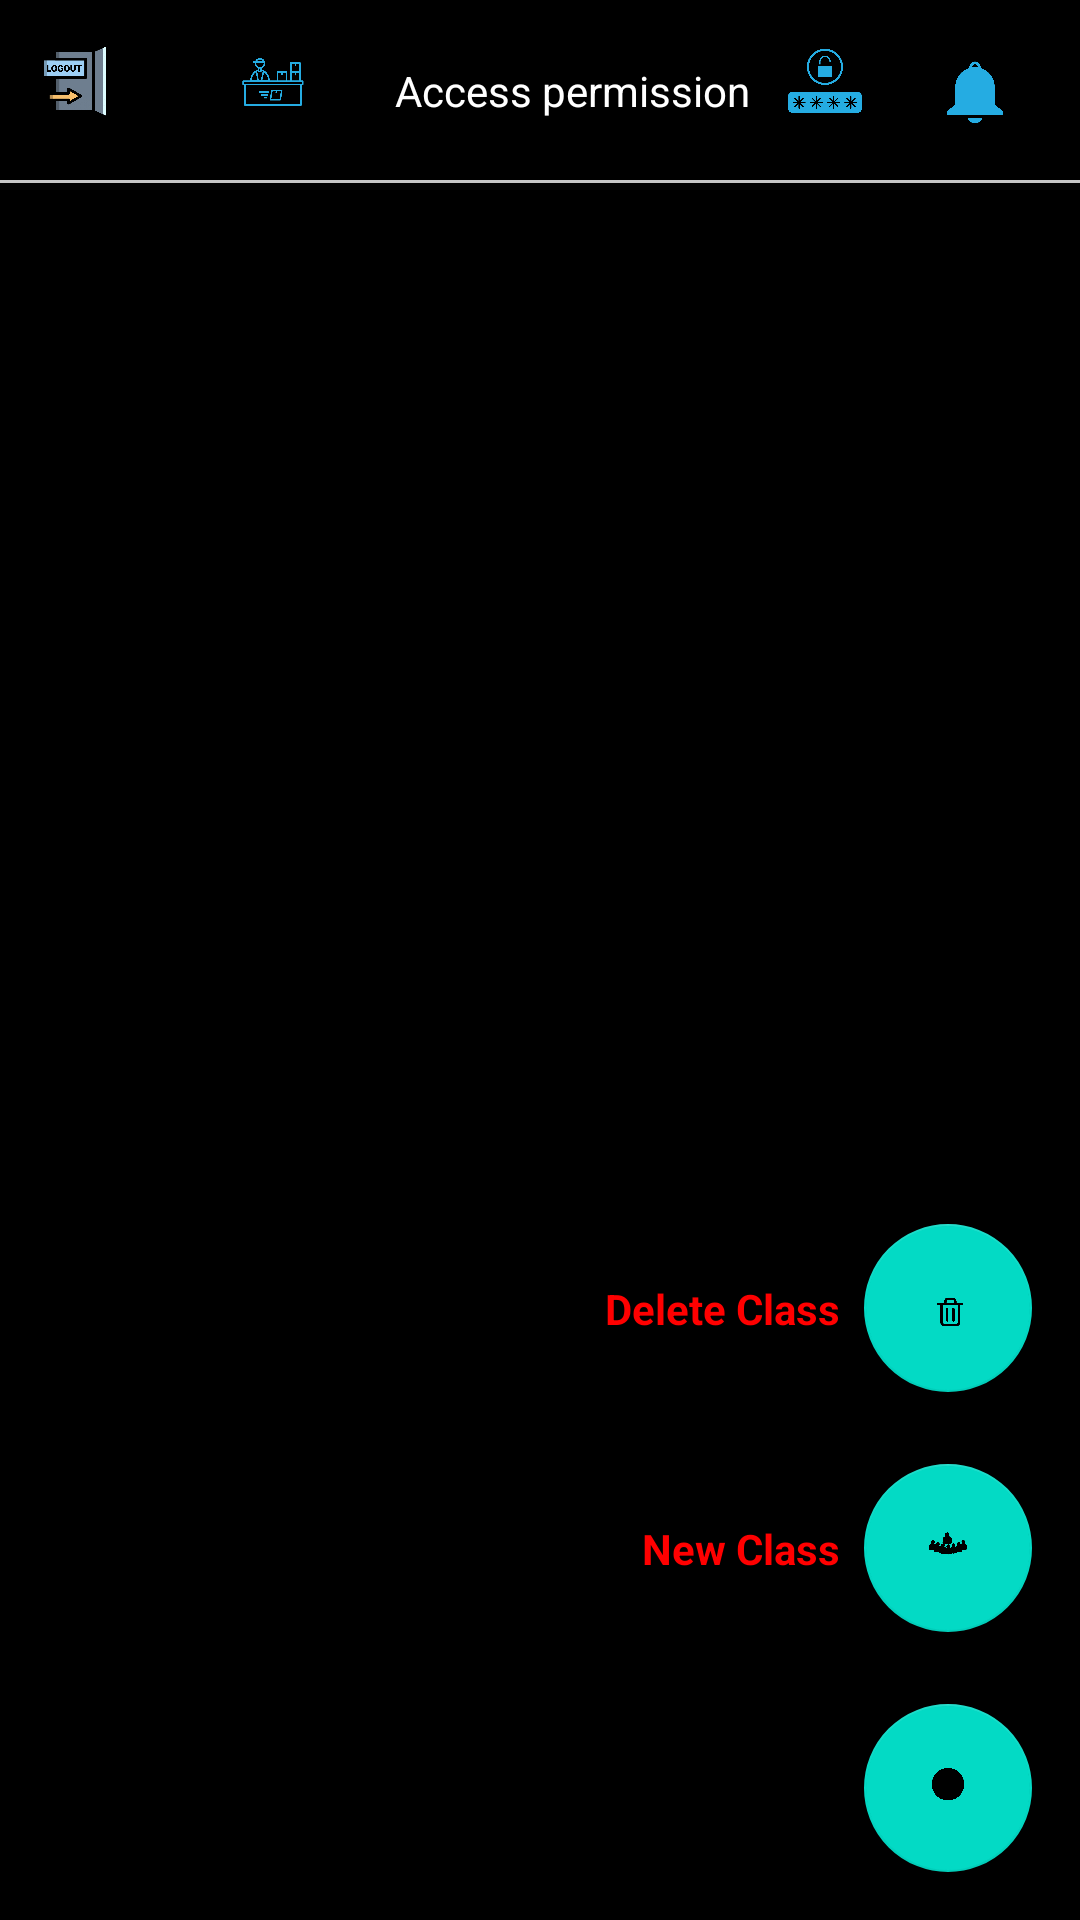

Icon bounding boxes for this 1080x1920 phone screenshot, format (x1, y1, x2, y2):
notification: (947, 61, 1003, 123)
